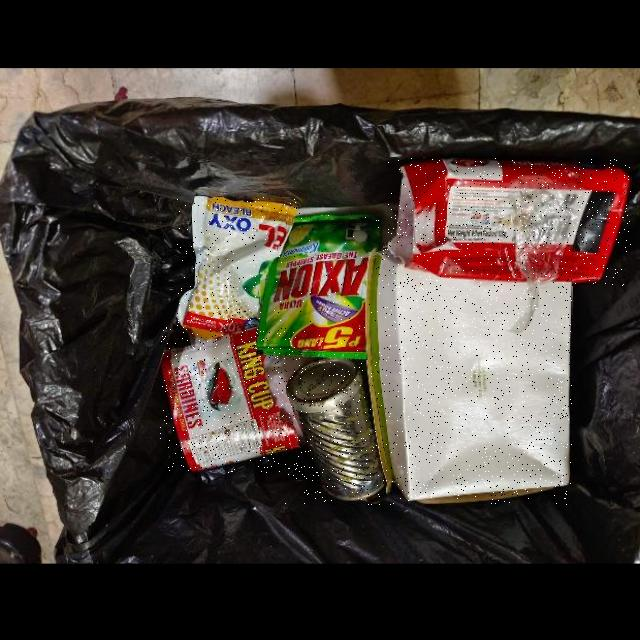metal: (285, 359, 388, 504)
paper: (364, 248, 572, 505), (388, 158, 631, 286), (161, 328, 303, 473)
wrapper: (256, 213, 382, 360), (176, 196, 297, 340)
